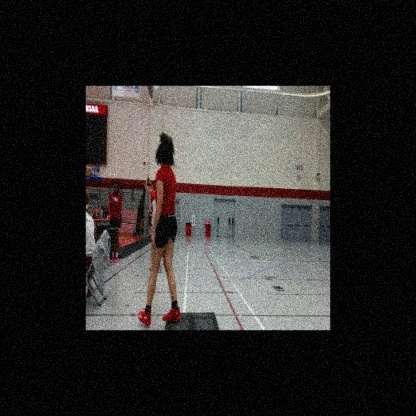lateral_flexion_right: (136, 132, 182, 330)
stance_width_broad: (138, 165, 181, 330)
